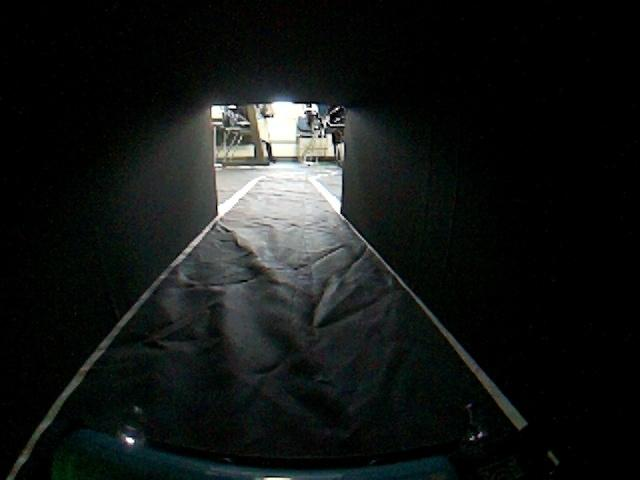in_tunnel: (6, 4, 635, 472)
